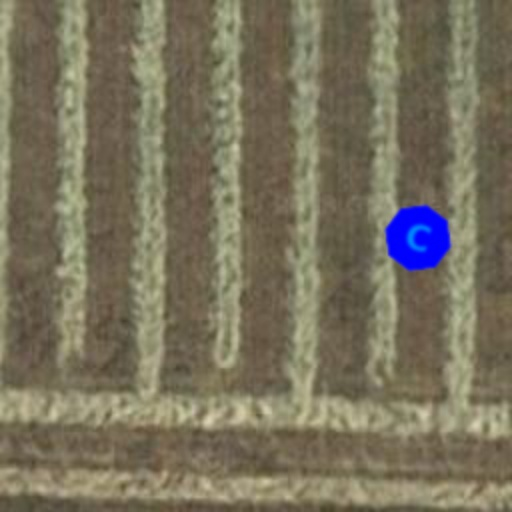octagon: (376, 196, 460, 280)
